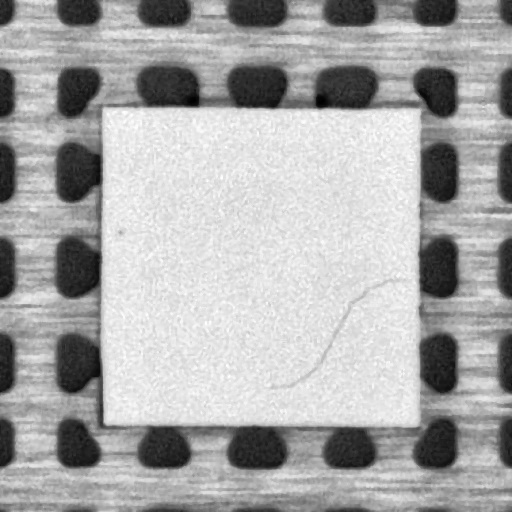DIE_CRACK: (268, 277, 419, 388)
